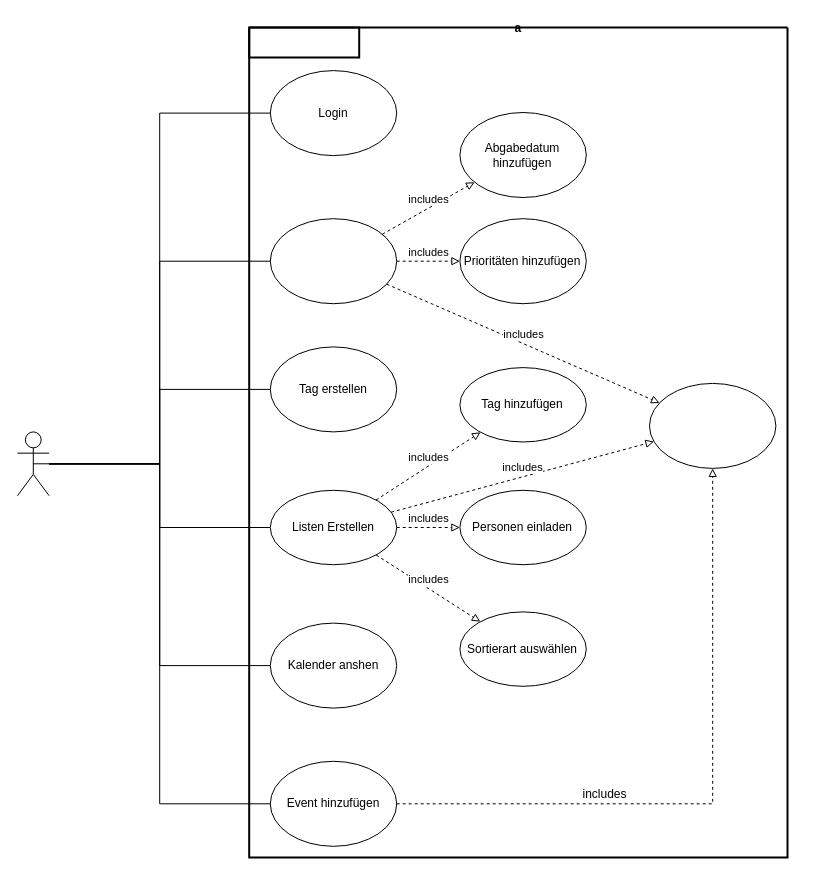
Image size: 825x884. Some labels were removed from this diagram. Each missing label, with the centre of its shape:
"Beischreibung hinzufügen" belongs at (x=712, y=425).
"Projekt-Lamp" belongs at (x=304, y=42).
"Task Erstellen/ändern" belongs at (x=333, y=261).
"user" belongs at (x=32, y=463).
